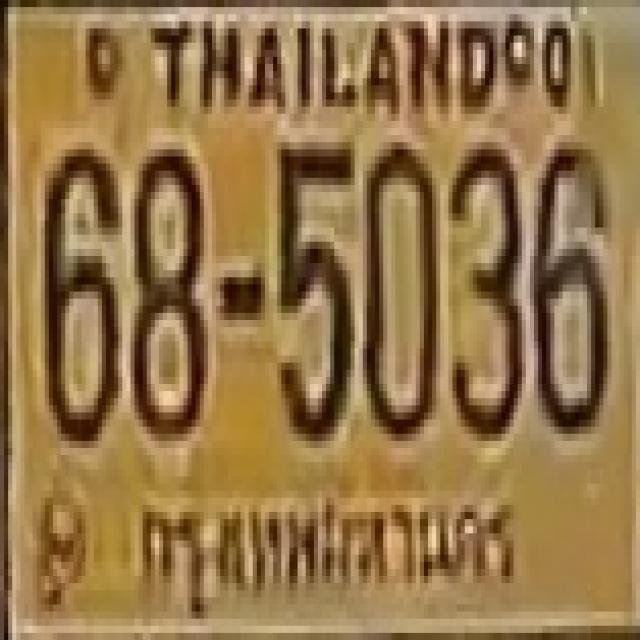0: (363, 135, 436, 434)
3: (448, 135, 518, 434)
5: (273, 135, 351, 434)
6: (41, 142, 114, 441), (530, 135, 603, 427)
8: (130, 142, 204, 434)
BKK: (128, 482, 521, 622)
